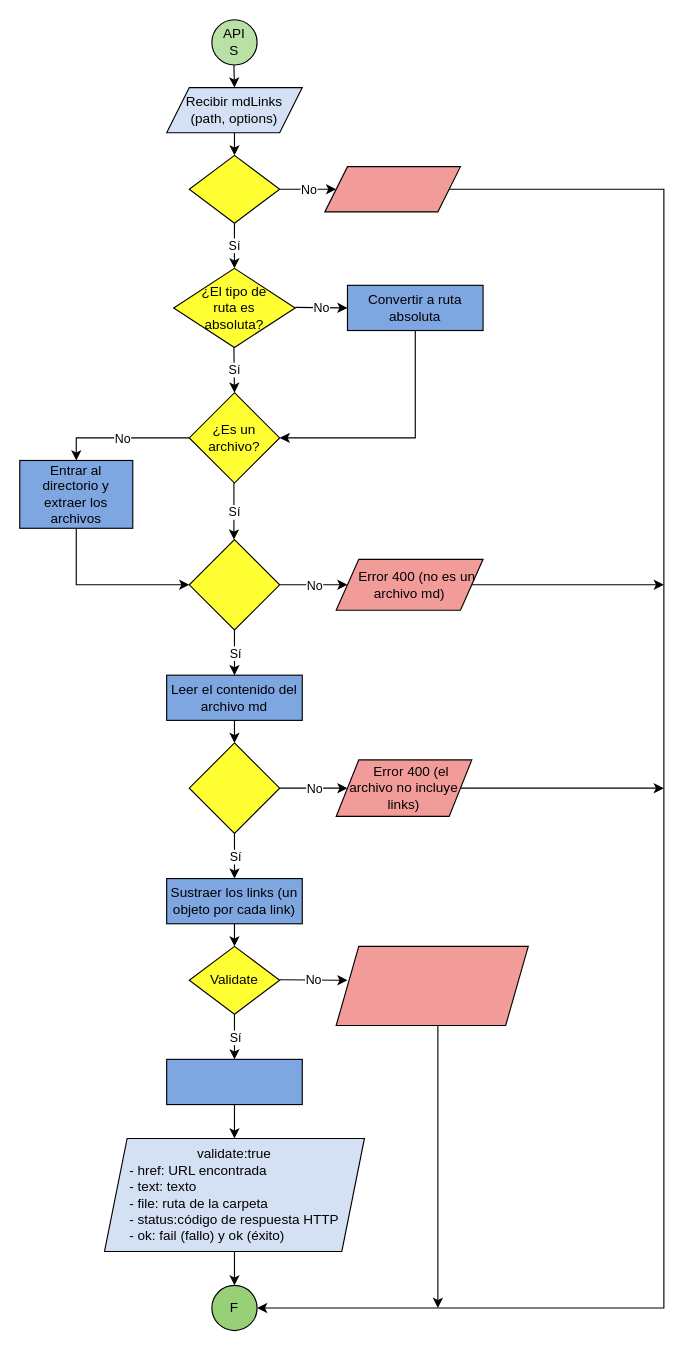
This 693x1350 diagram has some shape labels left out. The shapes that lost their labels are listed below. From the top down, each one's centre as x and y in pixels, then its label:
At point (234, 188): "¿Existe la ruta?".
At point (392, 189): "Error 400 (no existe la ruta)".
At point (234, 584): "¿Es un archivo md?".
At point (234, 787): "¿Incluye links?".
At point (431, 985): "validate:false - href: URL encontrada - text: texto - file: ruta de la carpeta".
At point (234, 1081): "Hacer 1 HTTP request".
